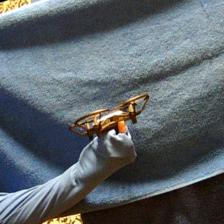drone: (66, 94, 154, 141)
